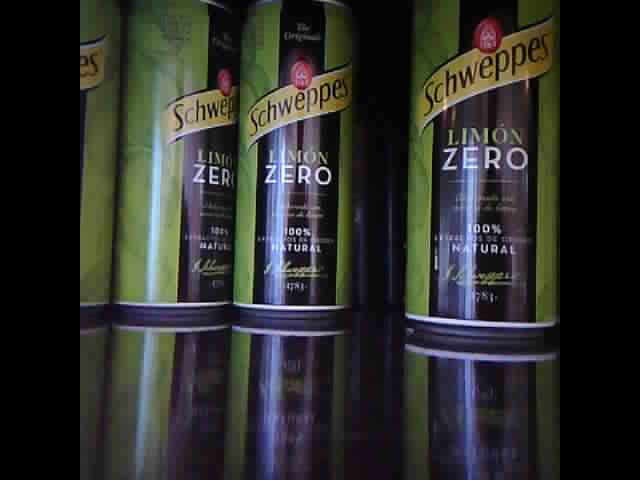schweppes: (404, 1, 559, 335), (232, 1, 363, 315), (113, 1, 239, 315), (79, 1, 118, 312)
